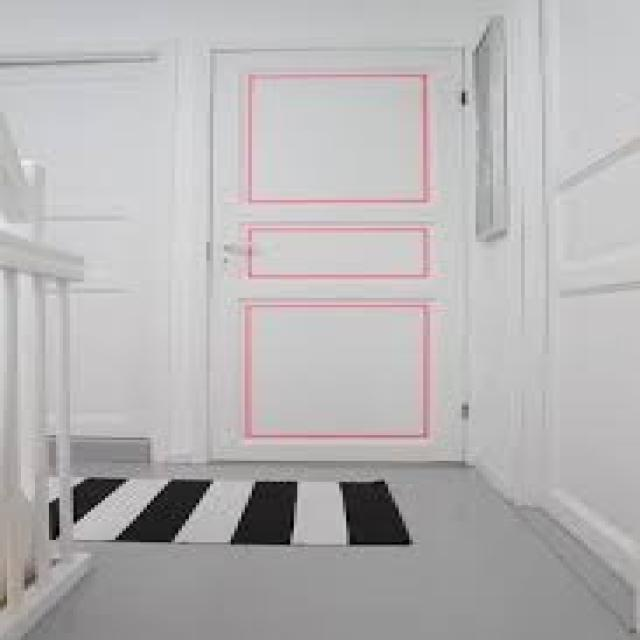door: (206, 45, 469, 462)
